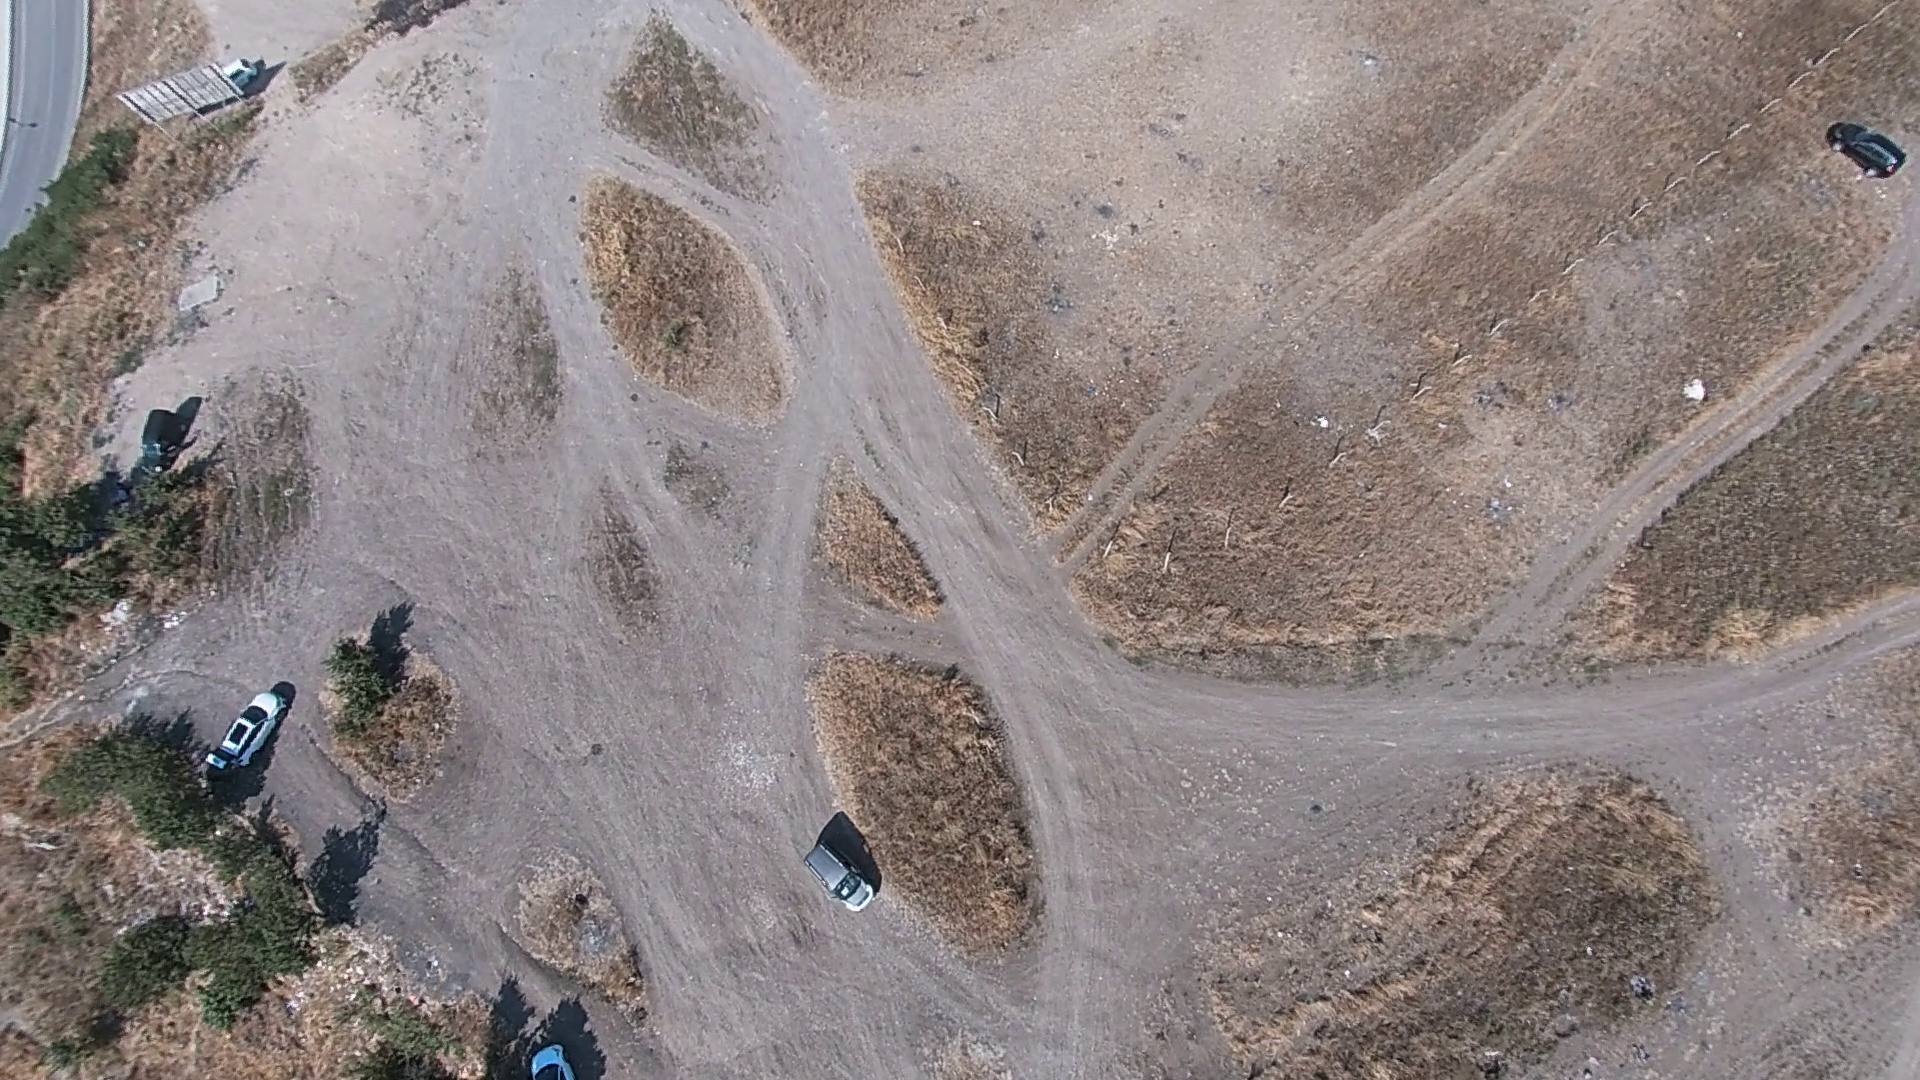arac: (200, 684, 294, 775), (796, 828, 878, 913), (1824, 105, 1919, 177), (128, 400, 194, 473)
